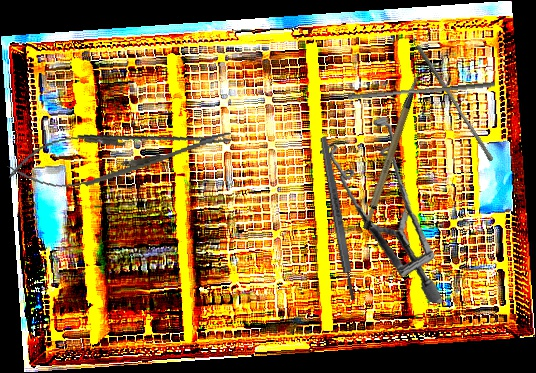Needle Holder: (4, 110, 237, 200)
Pusher: (411, 44, 498, 162), (347, 76, 496, 105)
Scalpel Handle: (342, 73, 444, 232), (318, 136, 358, 301)
Speculum: (303, 110, 465, 304)
